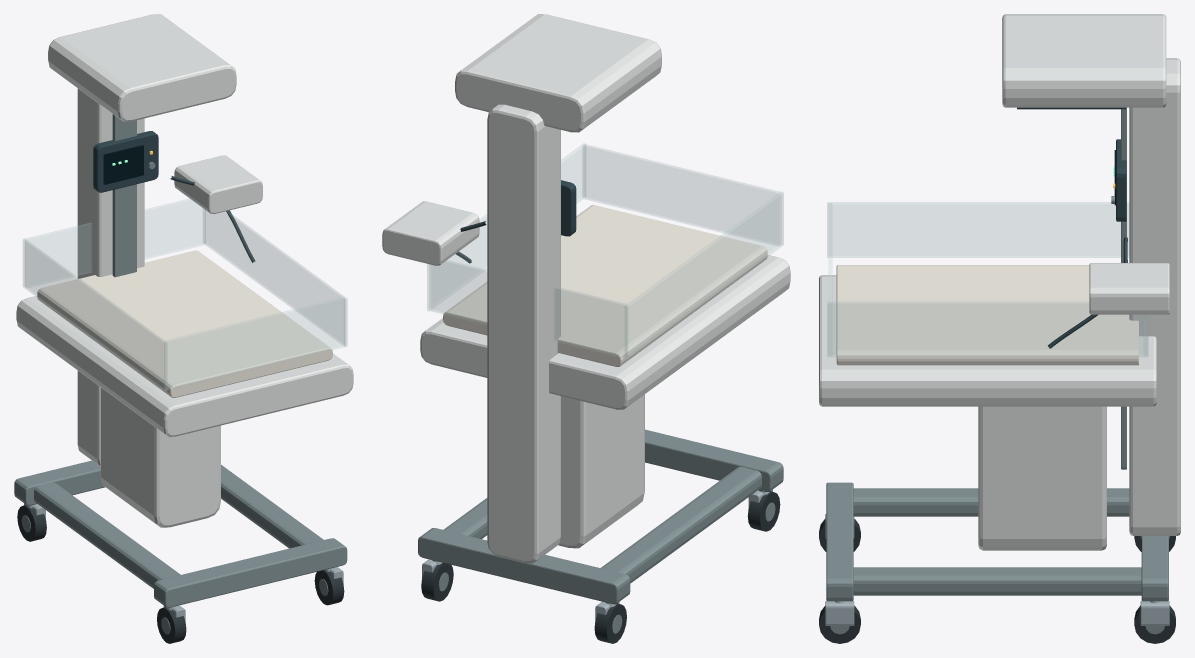
Rendered from warmer.glb.
3 views of the same model, side by side, from view 1: azimuth 30°, elevation 25°; view 2: azimuth 150°, elevation 25°; view 3: azimuth 270°, elevation 25° (orthographic). The views are drawn at different scales.
Visible parts, largest first — view 1: warmer-batch (×4), warmer, warmer-mattress; view 2: warmer-batch (×4), warmer, warmer-mattress; view 3: warmer-batch (×5), warmer, warmer-mattress.
Boxes of the visible parts, x1,y1,x2,y2 form: warmer-batch (×4): (14,14,353,643); warmer: (23,145,347,390); warmer-mattress: (37,250,332,397); warmer-batch (×4): (382,14,790,643); warmer: (427,143,783,359); warmer-mattress: (443,205,767,366); warmer-batch (×5): (819,14,1180,643); warmer: (827,150,1148,356); warmer-mattress: (836,265,1138,365).
Bounding box in the file's own units: 0.885 × 1.9 × 1.12.
